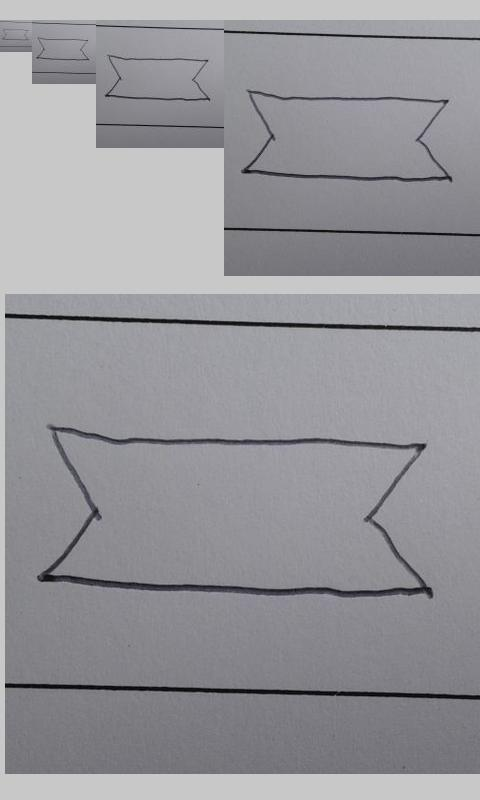edit_text: (39, 422, 431, 600), (241, 88, 452, 182), (104, 54, 211, 101), (35, 37, 89, 61), (2, 28, 29, 41)
